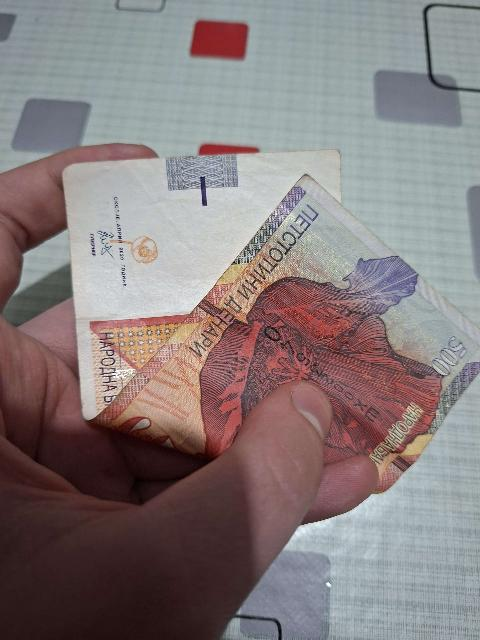500_note: (63, 151, 479, 492)
